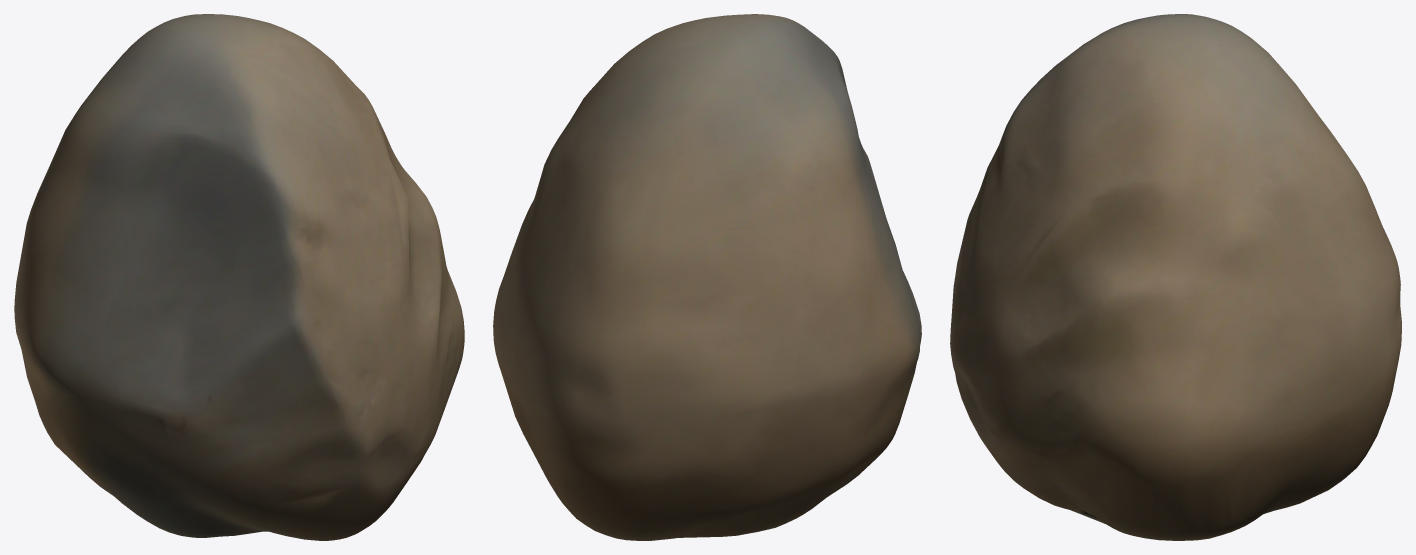
Rendered from rock2.glb.
The picture shows the model from 3 angles, left to right: view 1: azimuth 30°, elevation 25°; view 2: azimuth 150°, elevation 25°; view 3: azimuth 270°, elevation 25°; orthographic projection. The views are drawn at different scales.
Parts seen in each view (by area): view 1: material; view 2: material; view 3: material.
Boxes of the visible parts, x1,y1,x2,y2 form: material: [14, 14, 464, 540]; material: [493, 14, 921, 540]; material: [950, 14, 1401, 540].
Size of the model in its own units: 1.73 by 1.9 by 1.77.
1 material, 1 textured.
